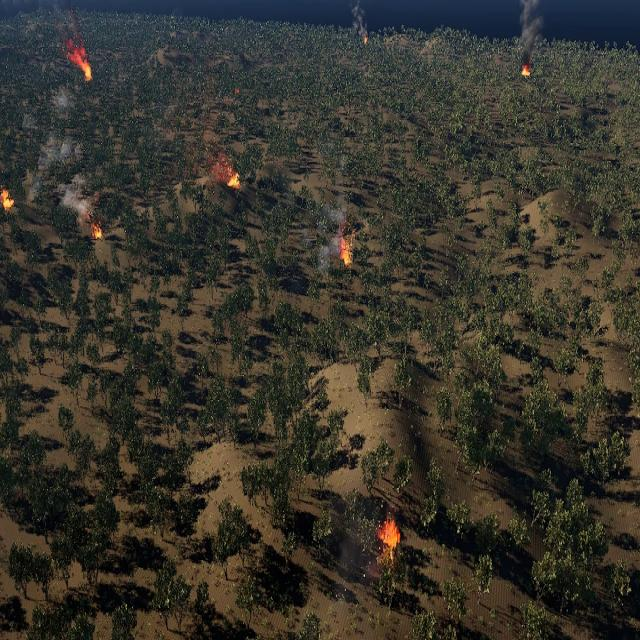fire: (66, 40, 92, 81), (378, 519, 400, 549), (341, 233, 354, 265), (0, 188, 14, 208), (92, 220, 103, 238), (229, 172, 240, 188), (522, 64, 531, 76), (362, 34, 368, 45), (235, 88, 239, 96)
smoke: (32, 137, 94, 227), (309, 187, 349, 268), (518, 0, 548, 60), (211, 148, 231, 182), (348, 0, 367, 34), (56, 90, 70, 110), (22, 111, 36, 131)
